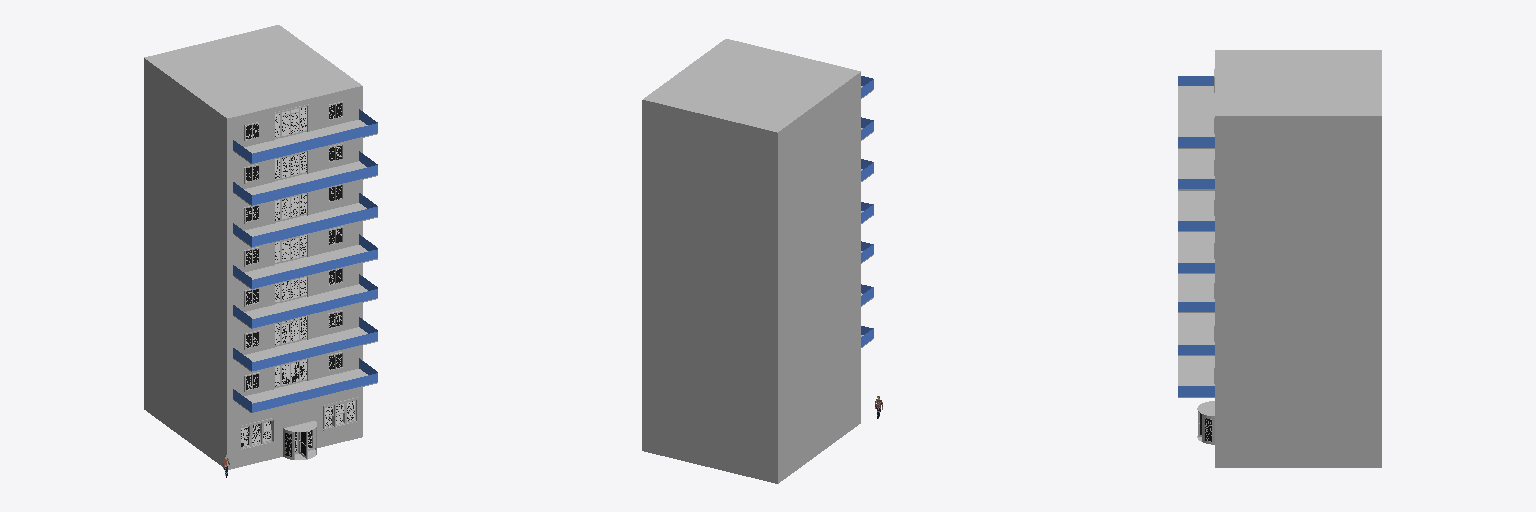
The picture shows the model from 3 angles: view 1: azimuth 30°, elevation 25°; view 2: azimuth 150°, elevation 25°; view 3: azimuth 270°, elevation 25°; orthographic projection.
Visible parts, largest first — view 1: Mesh136 building1 Model, Mesh38 Door_Glass_Double_Sidelights1 building1 Model, Mesh116 Window_3lite_8__6x5__4_1 building1 Model, Mesh123 Window_3lite_8__6x5__4_2 building1 Model, Mesh68 Door_Glass_Double_Sidelights6 building1 Model, Mesh56 Door_Glass_Double_Sidelights4 building1 Model, Mesh44 Door_Glass_Double_Sidelights2 building1 Model, Mesh50 Door_Glass_Double_Sidelights3 building1 Model, Mesh74 Door_Glass_Double_Sidelights7 building1 Model, Mesh31 DoorRevolving1 building1 Model, Mesh62 Door_Glass_Double_Sidelights5 building1 Model; view 2: Mesh136 building1 Model; view 3: Mesh136 building1 Model.
Part boxes in pixels (bbox=[...]): Mesh136 building1 Model: bbox=[144, 25, 377, 469]; Mesh38 Door_Glass_Double_Sidelights1 building1 Model: bbox=[273, 104, 308, 140]; Mesh116 Window_3lite_8__6x5__4_1 building1 Model: bbox=[323, 397, 357, 430]; Mesh123 Window_3lite_8__6x5__4_2 building1 Model: bbox=[240, 418, 274, 450]; Mesh68 Door_Glass_Double_Sidelights6 building1 Model: bbox=[273, 316, 308, 347]; Mesh56 Door_Glass_Double_Sidelights4 building1 Model: bbox=[273, 235, 308, 265]; Mesh44 Door_Glass_Double_Sidelights2 building1 Model: bbox=[273, 151, 308, 181]; Mesh50 Door_Glass_Double_Sidelights3 building1 Model: bbox=[273, 193, 308, 223]; Mesh74 Door_Glass_Double_Sidelights7 building1 Model: bbox=[273, 359, 308, 389]; Mesh31 DoorRevolving1 building1 Model: bbox=[283, 421, 316, 459]; Mesh62 Door_Glass_Double_Sidelights5 building1 Model: bbox=[273, 276, 308, 304]; Mesh136 building1 Model: bbox=[642, 39, 873, 483]; Mesh136 building1 Model: bbox=[1178, 50, 1381, 467].
Bounding box in the file's own units: 11.86 × 26.8 × 14.15.